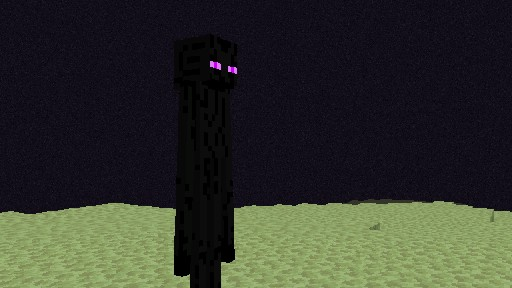enderman: (173, 33, 237, 288)
